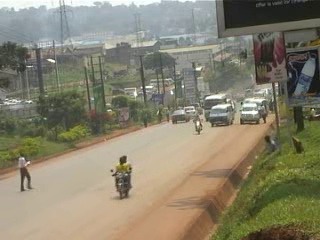Car: (238, 102, 262, 125), (170, 109, 190, 125), (183, 104, 197, 118), (191, 102, 202, 113)
Motorcycle: (108, 167, 133, 200), (191, 119, 203, 135)
